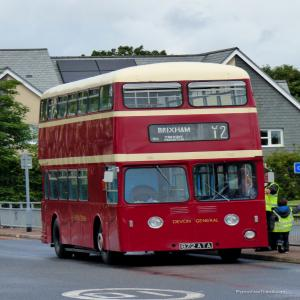Vehicle-registration-plate: (181, 243, 215, 251)
